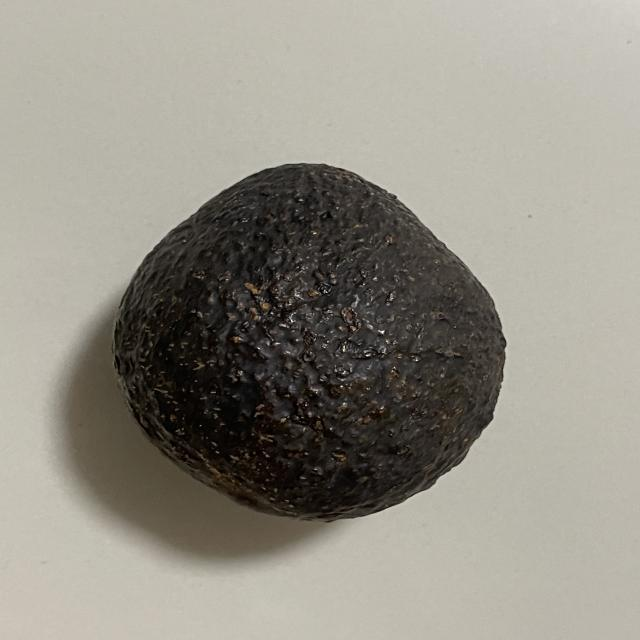Level3: (104, 156, 522, 530)
